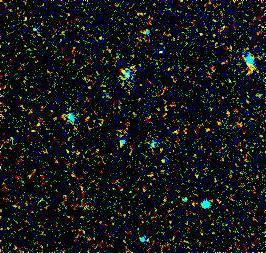star: (127, 0, 157, 30)
